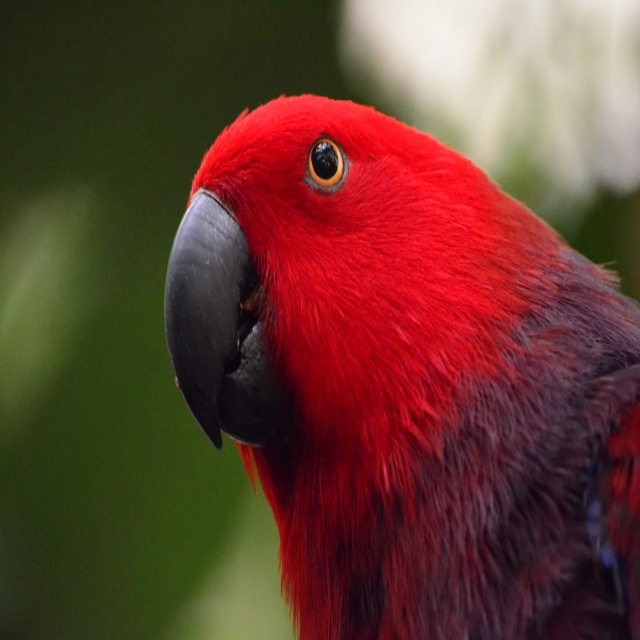Parrot: (164, 94, 640, 640)
